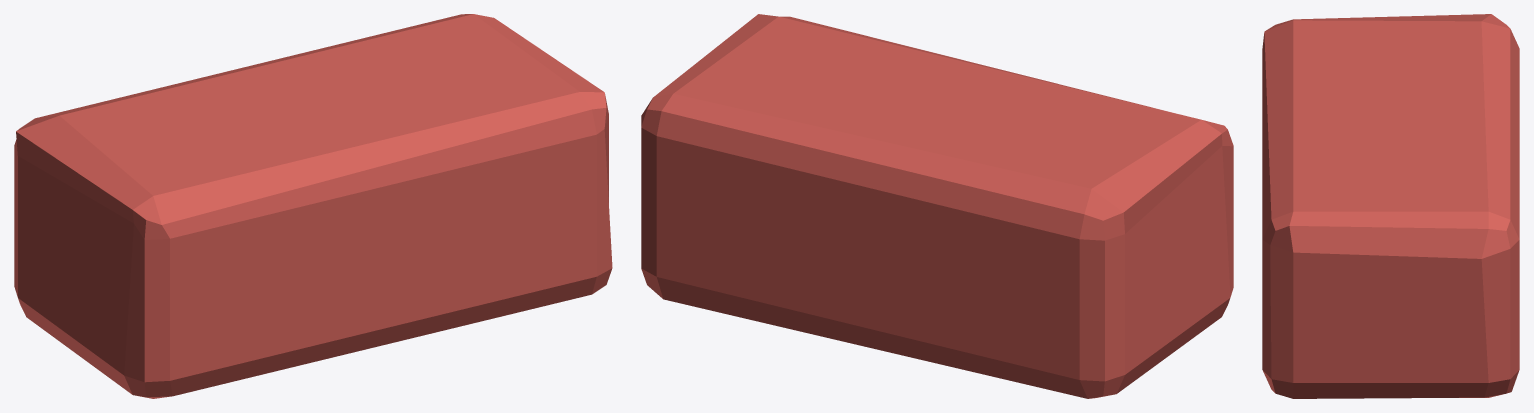
File: toolbox.glb
The picture shows the model from 3 angles, left to right: view 1: azimuth 30°, elevation 25°; view 2: azimuth 150°, elevation 25°; view 3: azimuth 270°, elevation 25°; orthographic projection. The views are drawn at different scales.
Parts seen in each view (by area): view 1: toolbox; view 2: toolbox; view 3: toolbox.
Boxes of the visible parts, x1,y1,x2,y2 form: toolbox: (14,14,612,398); toolbox: (641,14,1233,398); toolbox: (1262,14,1519,398).
Bounding box in the file's own units: 0.2538 × 0.1016 × 0.125.
